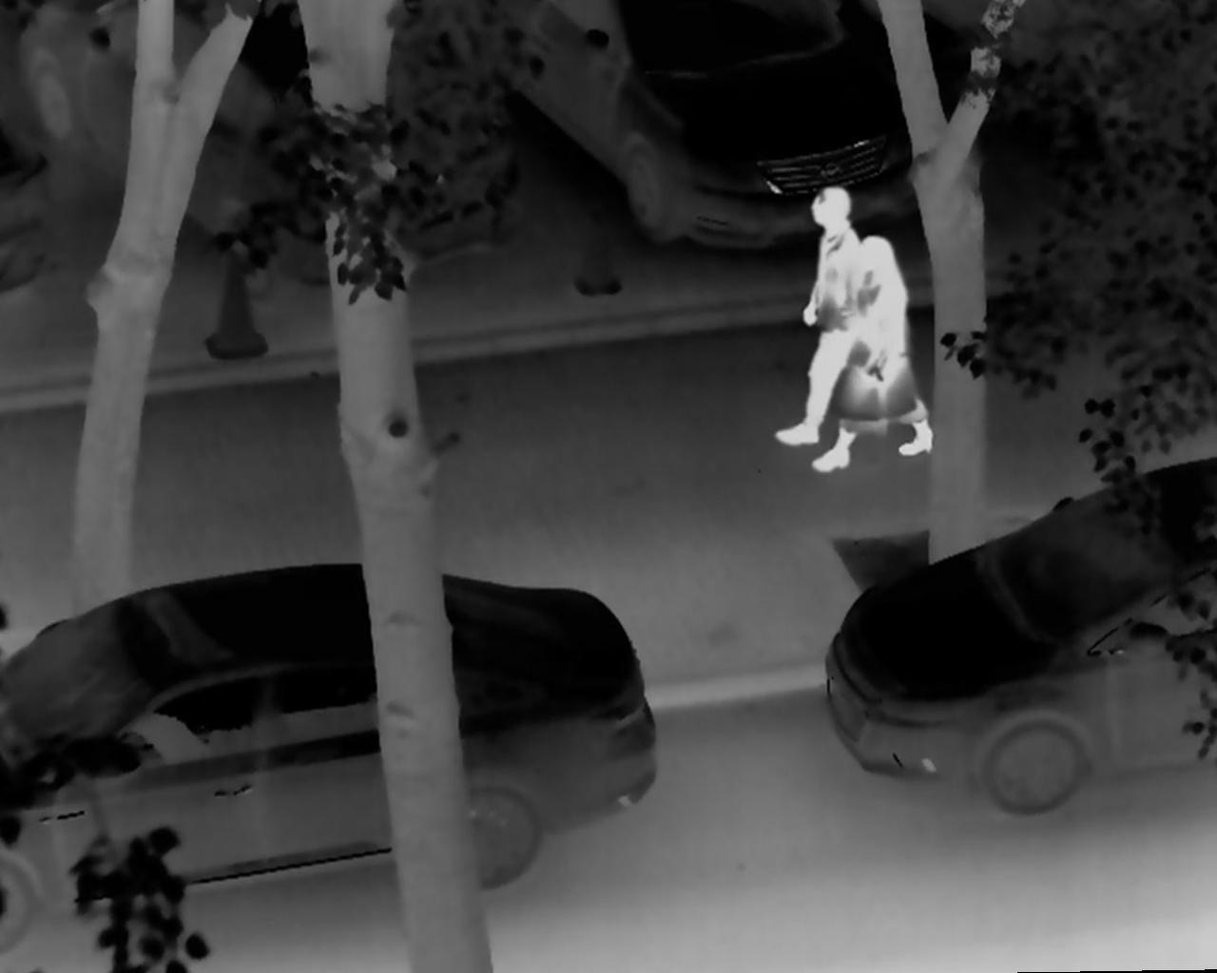person: (811, 233, 936, 474), (775, 181, 873, 443)
